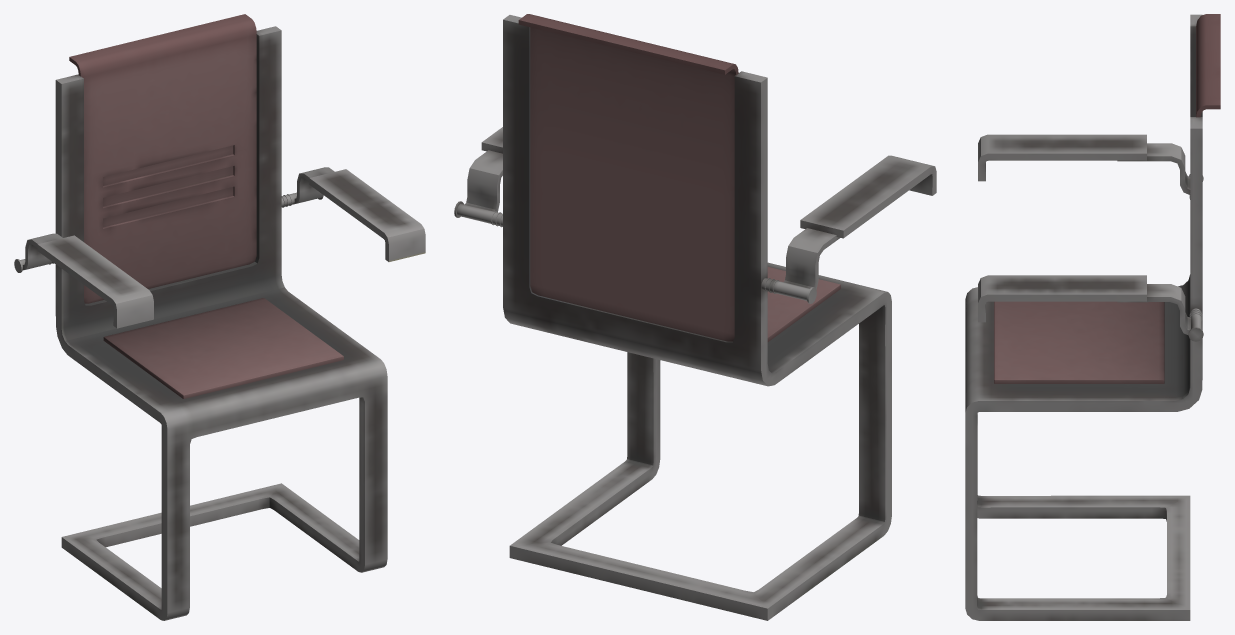
File: Chair_2.fbx
3 renders of one model, left to right at view 1: azimuth 30°, elevation 25°; view 2: azimuth 150°, elevation 25°; view 3: azimuth 270°, elevation 25°, orthographic. The views are drawn at different scales.
Visible parts, largest first — view 1: Chair_2; view 2: Chair_2; view 3: Chair_2.
Part boxes in pixels (box(x1,y1,x2,y2)): Chair_2: box(14, 14, 425, 620); Chair_2: box(454, 14, 936, 620); Chair_2: box(965, 14, 1220, 620).
Size of the model in its own units: 57.74 by 84.87 by 38.97.
